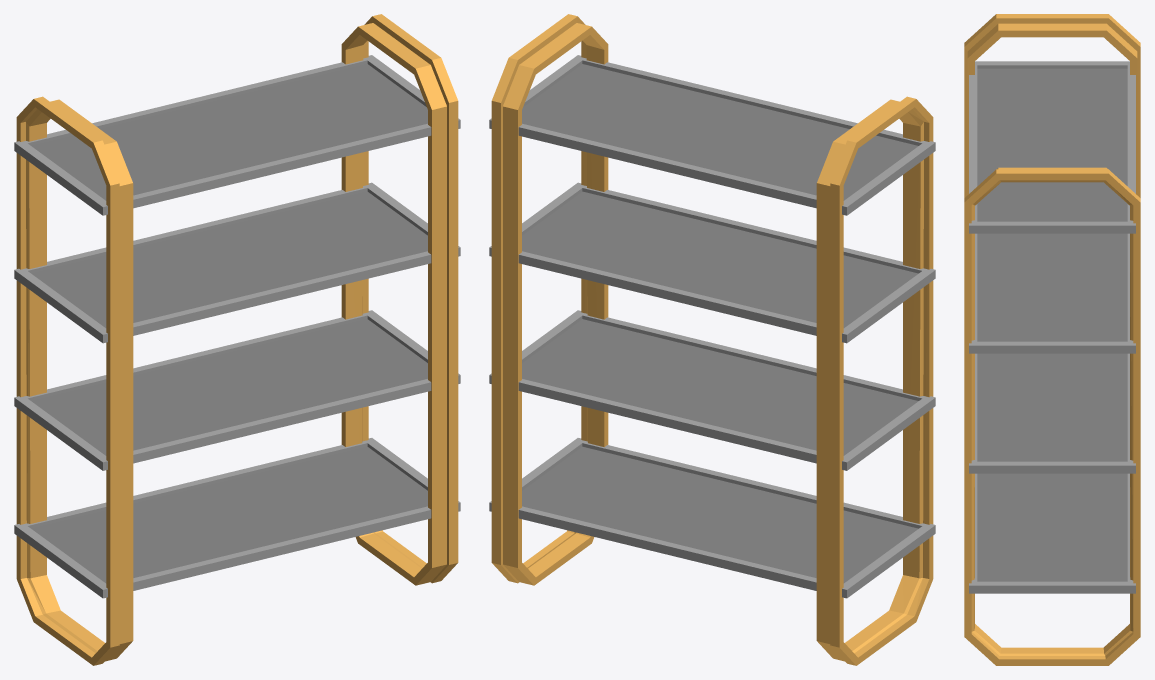
File: props_shelf.obj
3 renders of one model, left to right at view 1: azimuth 30°, elevation 25°; view 2: azimuth 150°, elevation 25°; view 3: azimuth 270°, elevation 25°, orthographic. The views are drawn at different scales.
Parts seen in each view (by area): view 1: props_shelf; view 2: props_shelf; view 3: props_shelf.
Boxes of the visible parts, bbox=[...] form: props_shelf: bbox=[14, 14, 460, 665]; props_shelf: bbox=[489, 14, 935, 665]; props_shelf: bbox=[964, 14, 1140, 665].
Bounding box in the file's own units: 1.79 × 2.5 × 0.8108.
